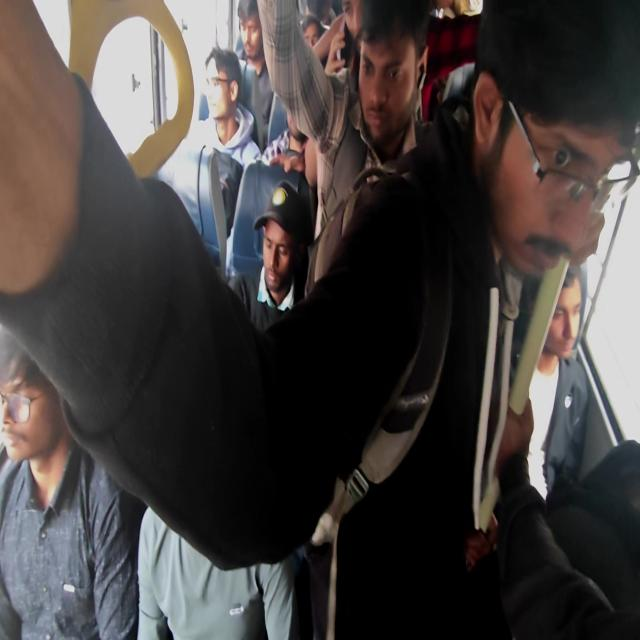person: (494, 96, 626, 276), (356, 19, 419, 146), (2, 354, 60, 462), (260, 199, 300, 306), (550, 288, 590, 365), (203, 64, 231, 116), (238, 17, 262, 55), (309, 34, 319, 46)
